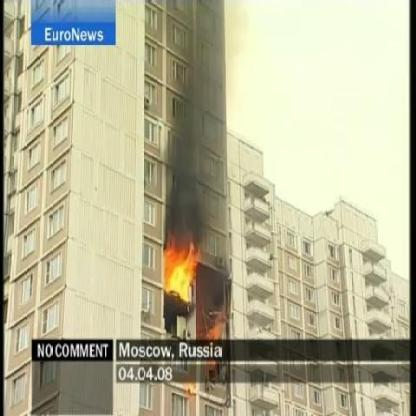fire: (163, 240, 204, 298), (202, 316, 228, 340)
